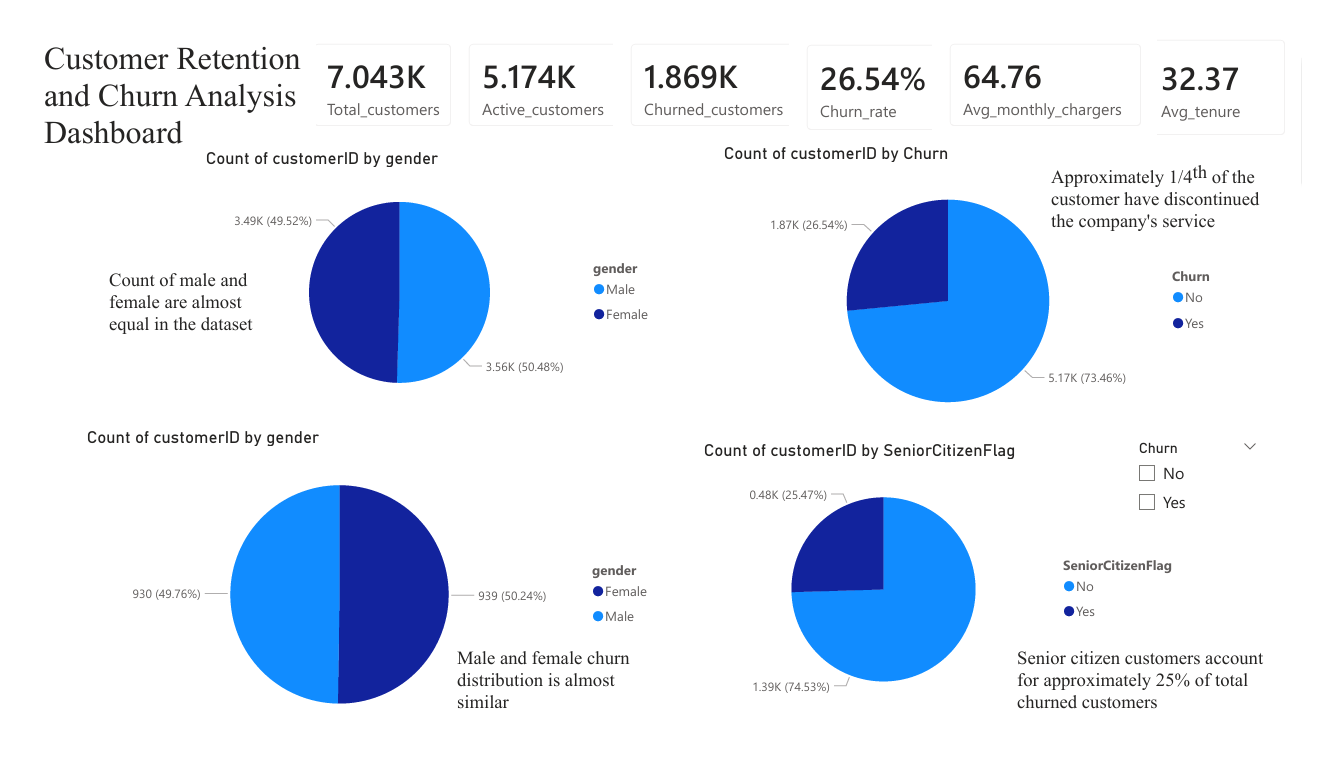

Layout of this report page (visuals, bound fields, positions):
{"tool":"powerbi","page":{"name":"Page 1","canvas":[1280,720],"ordinal":0},"visuals":[{"type":"cardVisual","fields":{"Data":["Telco.Active_customers"]},"box":[430.4,3.7,183.4,116.2],"z":0},{"type":"cardVisual","fields":{"Data":["Telco.Churned_customers"]},"box":[591.9,3.7,209.1,116.2],"z":1000},{"type":"cardVisual","fields":{"Data":["Telco.Total_customers"]},"box":[275.1,3.7,171.2,116.2],"z":2000},{"type":"cardVisual","fields":{"Data":["Telco.Churn_rate"]},"box":[767.9,4.9,165.1,119.8],"z":3000},{"type":"cardVisual","fields":{"Data":["Telco.Avg_tenure"]},"box":[1109.1,0,171.2,129.6],"z":4000},{"type":"cardVisual","fields":{"Data":["Telco.Avg_monthly"]},"box":[911,3.7,225,116.2],"z":5000},{"type":"pieChart","fields":{"Y":["CountNonNull(Telco.customerID)"],"Category":["Telco.Churn"]},"box":[697,119.8,516,297.1],"z":6000},{"type":"textbox","box":[17.1,12.2,277.6,126],"z":7000},{"type":"pieChart","fields":{"Y":["CountNonNull(Telco.customerID)"],"Category":["Telco.gender"]},"box":[178.5,124.7,462.2,270.2],"z":8000},{"type":"pieChart","fields":{"Category":["Telco.gender"],"Y":["CountNonNull(Telco.customerID)"]},"box":[59.9,403.5,579.6,316.7],"z":9000},{"type":"pieChart","fields":{"Y":["CountNonNull(Telco.customerID)"],"Category":["Telco.SeniorCitizenFlag"]},"box":[677.4,417,492.8,280],"z":10000},{"type":"textbox","box":[430.4,618.8,183.4,90.5],"z":11000},{"type":"textbox","box":[990.5,618.8,256.8,78.3],"z":12000},{"type":"textbox","box":[81.9,240.9,163.9,83.2],"z":13000},{"type":"textbox","box":[1023.5,138.2,231.1,94.2],"z":14000},{"type":"slicer","fields":{"Values":["Telco.Churn"]},"box":[1104.2,412.1,143.1,100.3],"z":17000}]}

Visuals, with their boxes in screenshot pixels (x1, y1, x2, y2), scaled from the page's 1280x720 canvas onto the 1323x765 screenshot:
cardVisual - Telco.Active_customers: (445,4,634,127)
cardVisual - Telco.Churned_customers: (612,4,828,127)
cardVisual - Telco.Total_customers: (284,4,461,127)
cardVisual - Telco.Churn_rate: (794,5,964,132)
cardVisual - Telco.Avg_tenure: (1146,0,1322,138)
cardVisual - Telco.Avg_monthly: (942,4,1174,127)
pieChart - CountNonNull(Telco.customerID) x Telco.Churn: (720,127,1254,443)
textbox: (18,13,305,147)
pieChart - CountNonNull(Telco.customerID) x Telco.gender: (184,132,662,420)
pieChart - Telco.gender x CountNonNull(Telco.customerID): (62,429,661,764)
pieChart - CountNonNull(Telco.customerID) x Telco.SeniorCitizenFlag: (700,443,1210,741)
textbox: (445,657,634,754)
textbox: (1024,657,1289,741)
textbox: (85,256,254,344)
textbox: (1058,147,1297,247)
slicer - Telco.Churn: (1141,438,1289,544)
